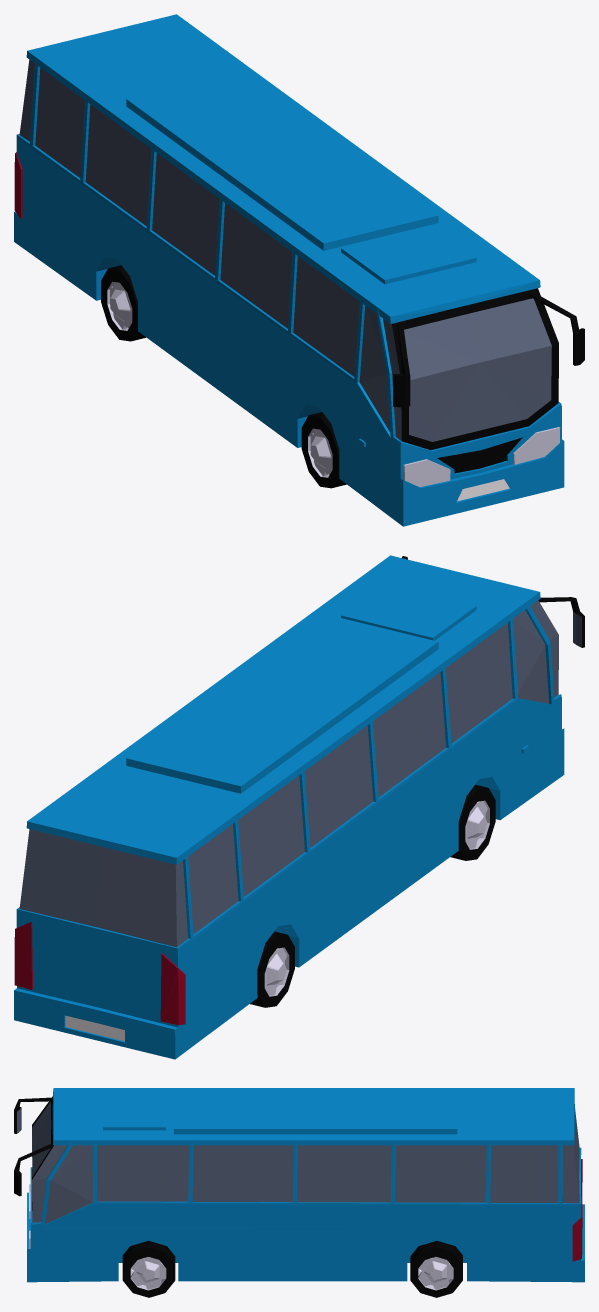
File: bus.glb
3 views of the same model, one above another, from view 1: azimuth 30°, elevation 25°; view 2: azimuth 150°, elevation 25°; view 3: azimuth 270°, elevation 25° (orthographic). The views are drawn at different scales.
Parts seen in each view (by area): view 1: Cube.025_5; view 2: Cube.025_5; view 3: Cube.025_5.
Boxes of the visible parts, x1,y1,x2,y2 form: Cube.025_5: [14, 14, 584, 526]; Cube.025_5: [14, 555, 584, 1059]; Cube.025_5: [14, 1088, 584, 1297].
Size of the model in its own units: 3.81 by 4.27 by 13.7.
1 material, 1 textured.
